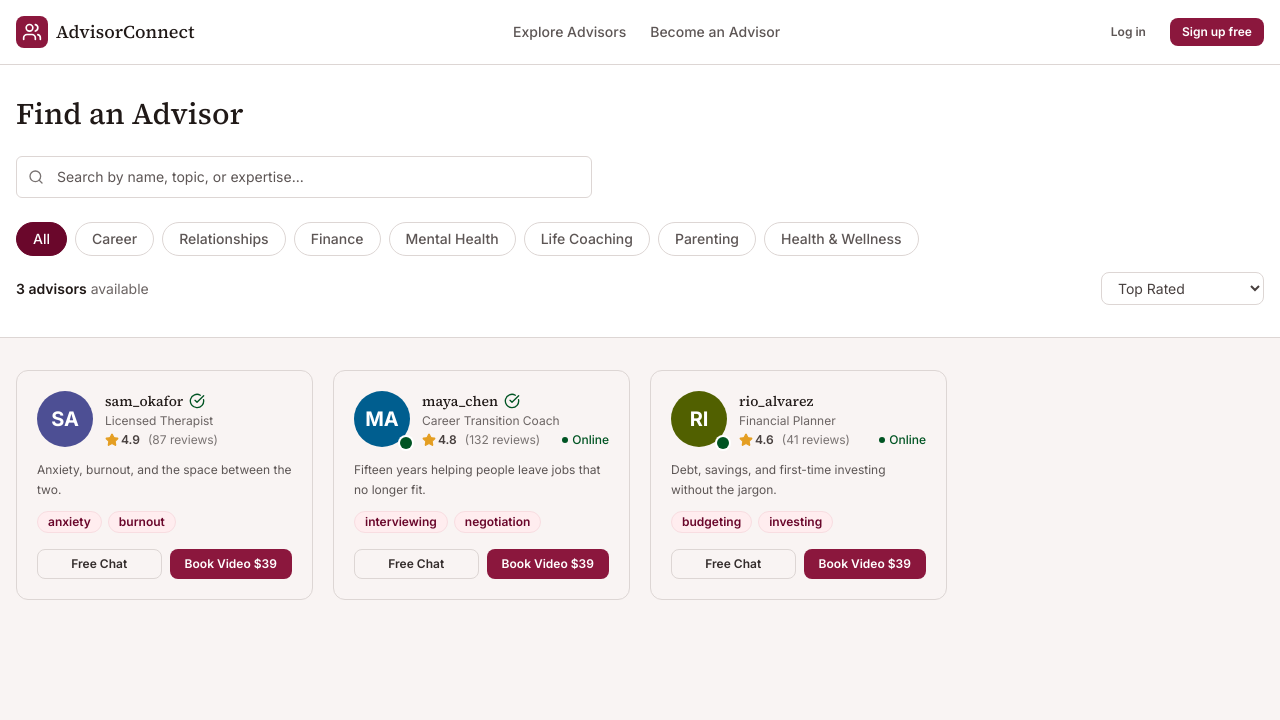
ExplorePage › category pills › writes the sector to the URL and refetches with it
expect the text "maya_chen" is shown: met, box [422,391,498,411]
Click the button "Career".
click(115, 239)  # box [75,222,154,256]
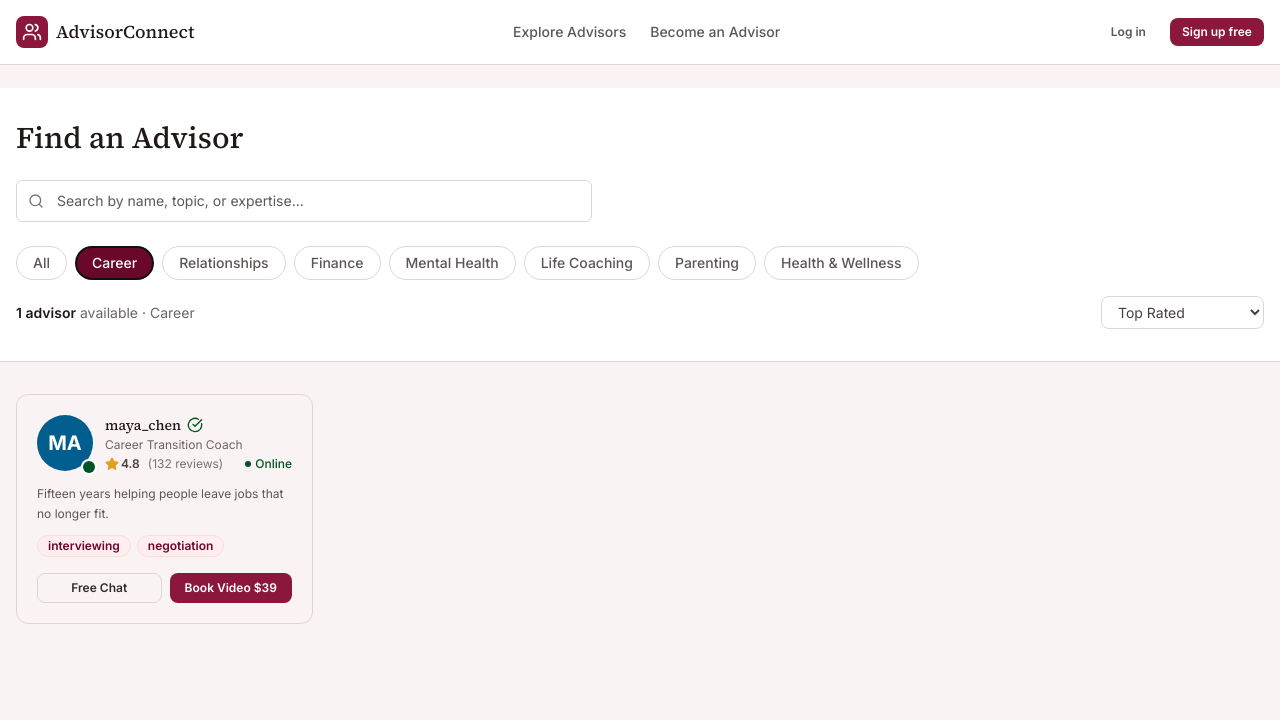
expect the text with test id "search" shows "sector=CAREER": met, box [0,2,129,22]
expect the text "sam_okafor" is gone: met
